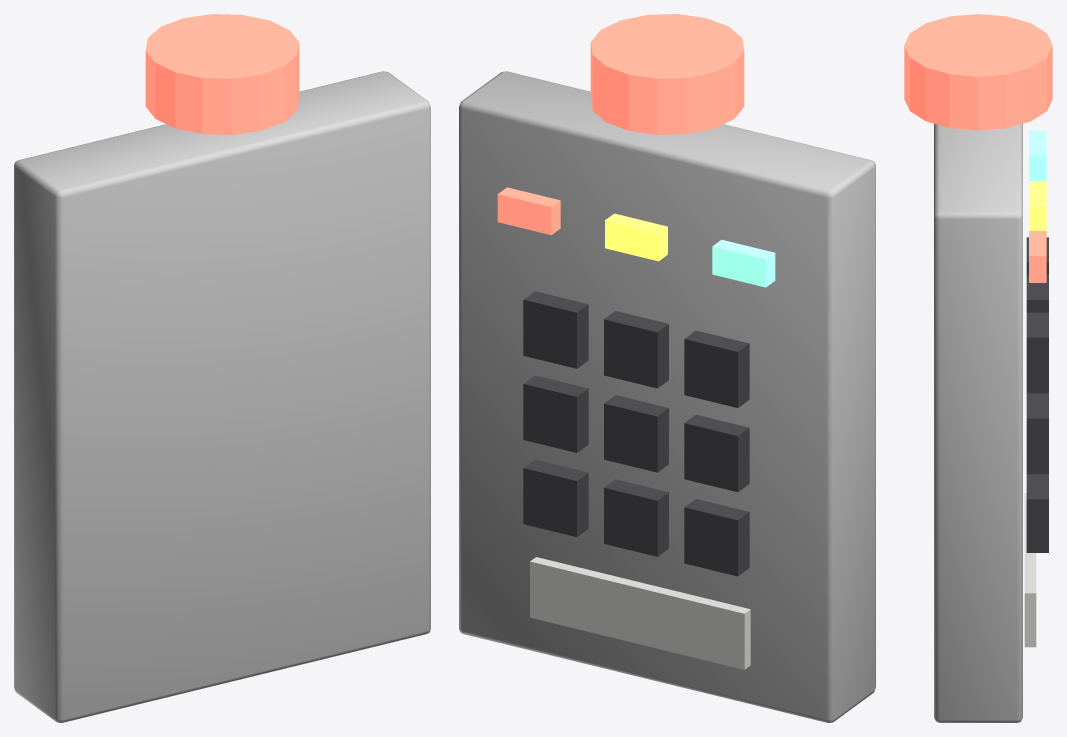
File: hm_bank_alarm_panel_v2.glb
3 views of the same model, side by side, from view 1: azimuth 30°, elevation 25°; view 2: azimuth 150°, elevation 25°; view 3: azimuth 270°, elevation 25° (orthographic). The views are drawn at different scales.
Visible parts, largest first — view 1: AP_Body, AP_Siren; view 2: AP_Body, AP_Siren, AP_Sticker, AP_Key_2_2, AP_Key_1_0, AP_Key_1_2, AP_Key_0_0, AP_Key_0_2, AP_Key_2_0, AP_Key_0_1, AP_Key_1_1, AP_Key_2_1 (+3 smaller); view 3: AP_Body, AP_Siren, AP_Key_1_2, AP_Key_2_2, AP_Key_0_2, AP_Sticker, AP_LED_2, AP_LED_0, AP_LED_1, AP_Key_2_1.
Part boxes in pixels (x1,y1,x2,y2): AP_Body: (14, 71, 430, 722); AP_Siren: (145, 14, 299, 134); AP_Body: (459, 71, 875, 722); AP_Siren: (590, 14, 744, 134); AP_Sticker: (530, 557, 750, 669); AP_Key_2_2: (523, 291, 588, 368); AP_Key_1_0: (684, 414, 749, 492); AP_Key_1_2: (523, 375, 588, 452); AP_Key_0_0: (684, 499, 749, 576); AP_Key_0_2: (523, 459, 588, 536); AP_Key_2_0: (684, 330, 749, 407); AP_Key_0_1: (604, 479, 668, 556); AP_Key_1_1: (604, 395, 668, 472); AP_Key_2_1: (604, 311, 668, 388); AP_Body: (934, 123, 1022, 722); AP_Siren: (904, 14, 1052, 130); AP_Key_1_2: (1026, 393, 1048, 472); AP_Key_2_2: (1026, 312, 1048, 391); AP_Key_0_2: (1026, 474, 1048, 552); AP_Sticker: (1024, 493, 1036, 647); AP_LED_2: (1029, 231, 1046, 282); AP_LED_0: (1029, 130, 1046, 180); AP_LED_1: (1029, 181, 1046, 230); AP_Key_2_1: (1026, 275, 1048, 312).
Bounding box in the file's own units: 0.28 × 0.44 × 0.1.
